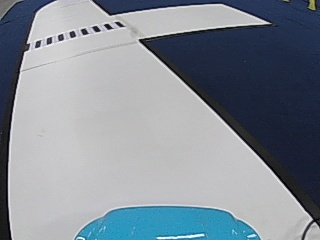CrossWalk: (29, 20, 123, 48)
